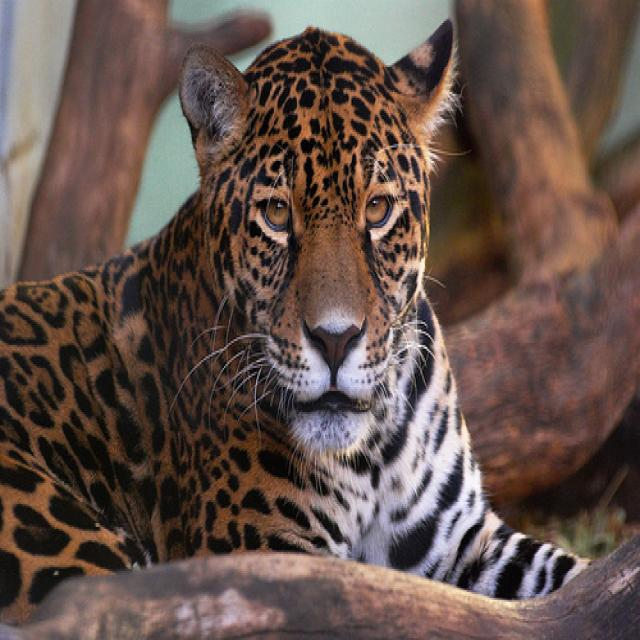Leopard: (0, 13, 594, 623)
